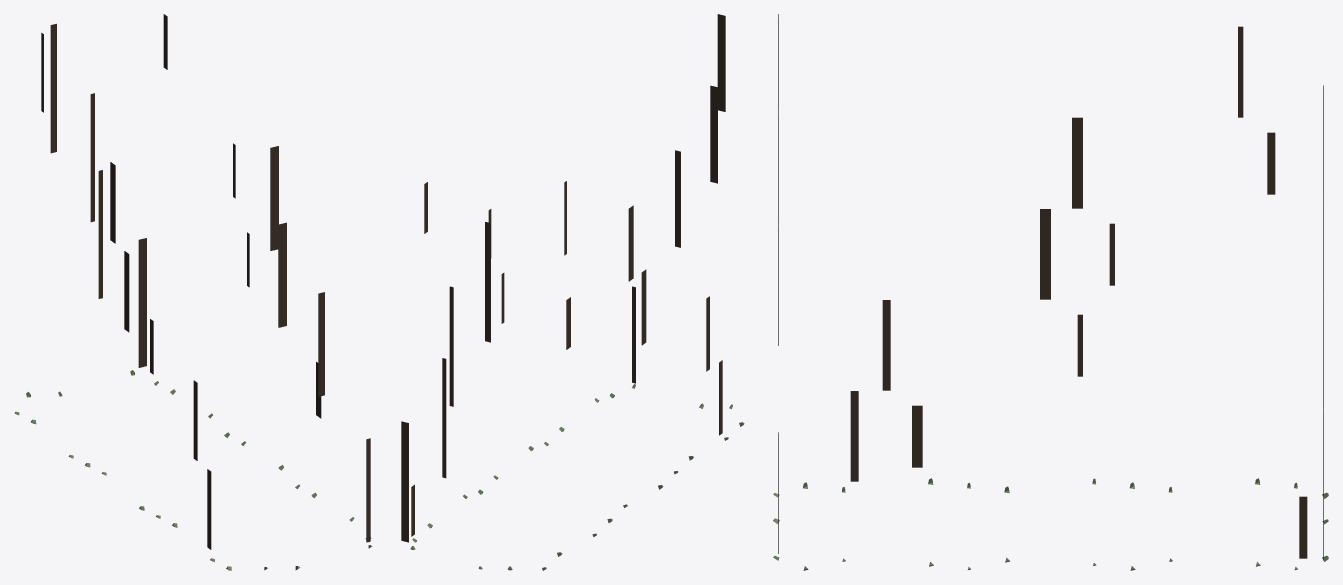
File: survey_mast_40_detail2.glb
The picture shows the model from 3 angles, left to right: view 1: azimuth 30°, elevation 25°; view 2: azimuth 150°, elevation 25°; view 3: azimuth 270°, elevation 25°; orthographic projection. The views are drawn at different scales.
Parts seen in each view (by area): view 1: survey_mast_40_detail2_mesh; view 2: survey_mast_40_detail2_mesh; view 3: survey_mast_40_detail2_mesh.
Boxes of the visible parts, x1,y1,x2,y2 form: survey_mast_40_detail2_mesh: (14,14,372,570); survey_mast_40_detail2_mesh: (401,14,744,570); survey_mast_40_detail2_mesh: (773,14,1328,570).
Size of the model in its own units: 4.24 by 12.04 by 12.24.
